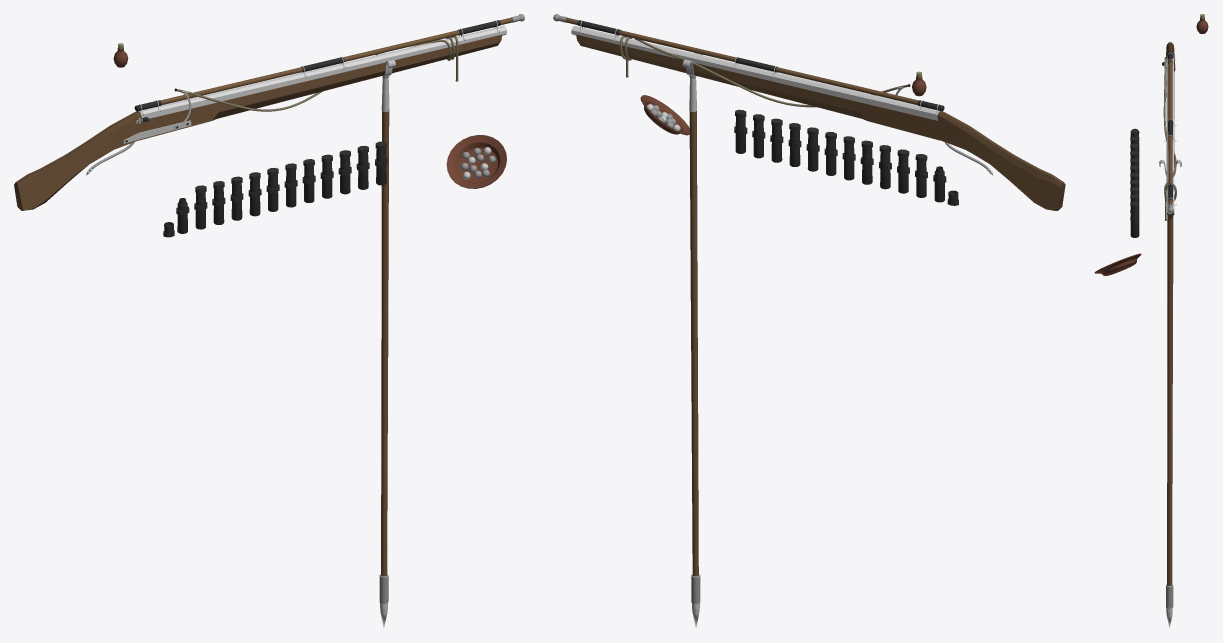
Rendered from Arquebus.fbx.
The picture shows the model from 3 angles, left to right: view 1: azimuth 30°, elevation 25°; view 2: azimuth 150°, elevation 25°; view 3: azimuth 270°, elevation 25°; orthographic projection. The views are drawn at different scales.
Parts seen in each view (by area): view 1: Cube, Cylinder.000, Cube.004, Cylinder.009, Circle.002, Cylinder, Circle.001; view 2: Cube, Cylinder.000, Cube.004, Cylinder.009, Cylinder, Circle.002, Circle.001; view 3: Cube.004, Cylinder.000, Cylinder, Cylinder.009, Circle.002, Circle.001, Cube.
Part boxes in pixels (<box>): Cube: <box>14,34,502,210</box>; Cylinder.000: <box>163,141,387,237</box>; Cube.004: <box>376,52,395,628</box>; Cylinder.009: <box>139,25,506,120</box>; Circle.002: <box>446,135,506,188</box>; Cylinder: <box>134,14,524,111</box>; Circle.001: <box>174,36,458,111</box>; Cube: <box>576,34,1065,210</box>; Cylinder.000: <box>734,109,958,205</box>; Cube.004: <box>682,52,702,627</box>; Cylinder.009: <box>571,25,939,120</box>; Cylinder: <box>553,14,944,111</box>; Circle.002: <box>640,95,689,135</box>; Circle.001: <box>619,36,910,107</box>; Cube.004: <box>1159,159,1181,628</box>; Cylinder.000: <box>1130,128,1139,237</box>; Cylinder: <box>1167,51,1173,213</box>; Cylinder.009: <box>1166,58,1174,213</box>; Circle.002: <box>1094,253,1141,275</box>; Circle.001: <box>1163,57,1176,220</box>; Cube: <box>1166,42,1175,218</box>.
Bounding box in the file's own units: 162 × 191 × 38.33.
